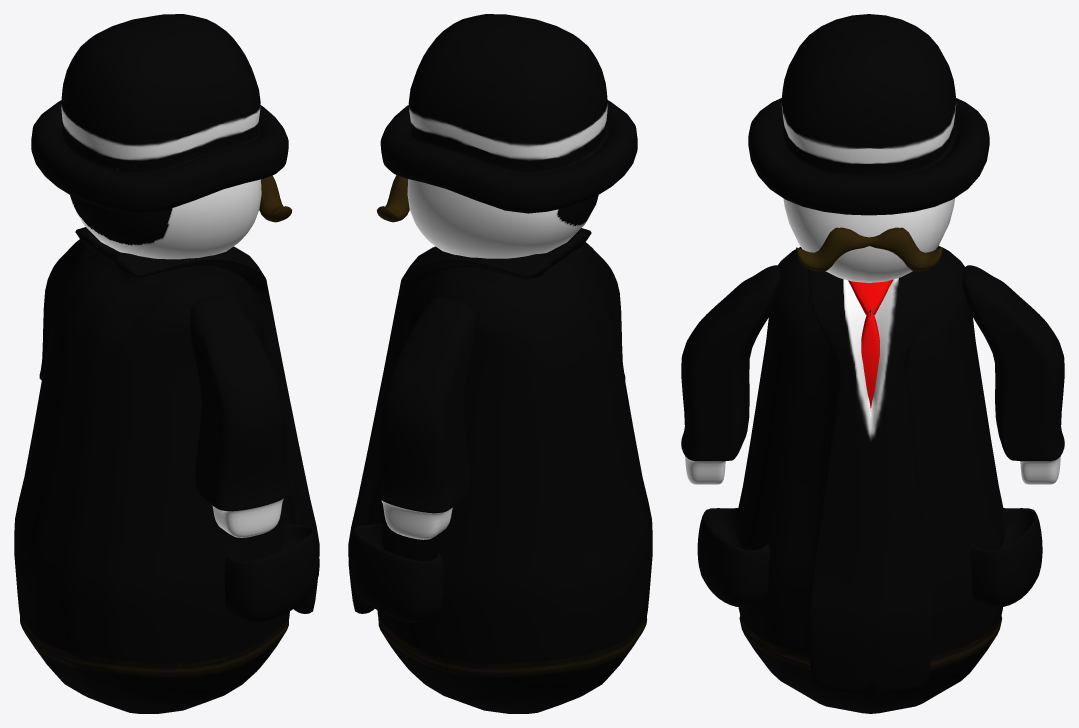
File: char_final.fbx
3 renders of one model, left to right at view 1: azimuth 30°, elevation 25°; view 2: azimuth 150°, elevation 25°; view 3: azimuth 270°, elevation 25°, orthographic.
Parts seen in each view (by area): view 1: High_Poly_char; view 2: High_Poly_char; view 3: High_Poly_char.
Boxes of the visible parts, box(x1,y1,x2,y2) form: High_Poly_char: box(14, 14, 319, 713); High_Poly_char: box(348, 14, 652, 713); High_Poly_char: box(681, 14, 1064, 713).
Size of the model in its own units: 56.93 by 138 by 72.41.
